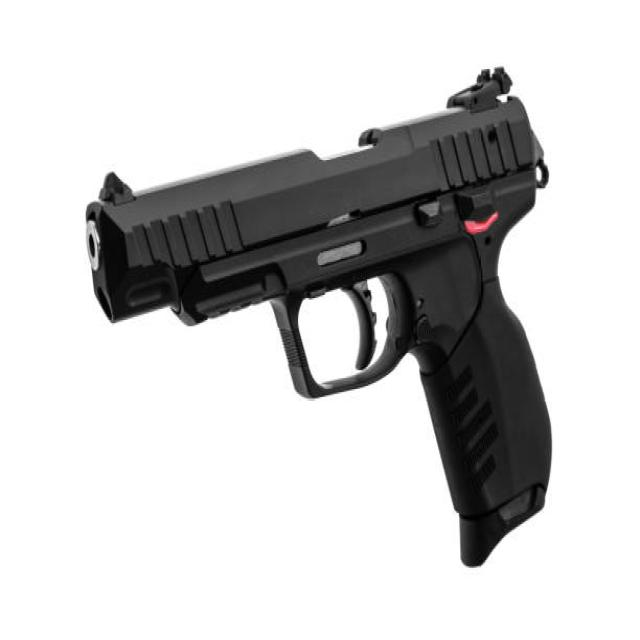pistol: (81, 59, 560, 581)
